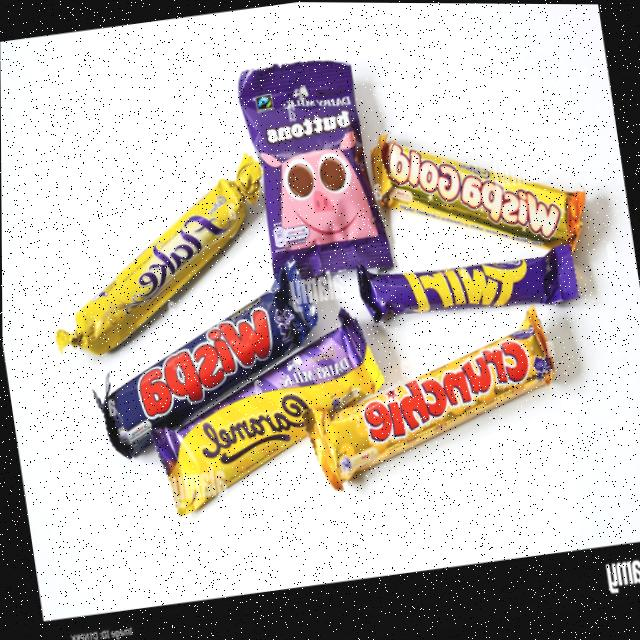kisses: (140, 314, 397, 534)
